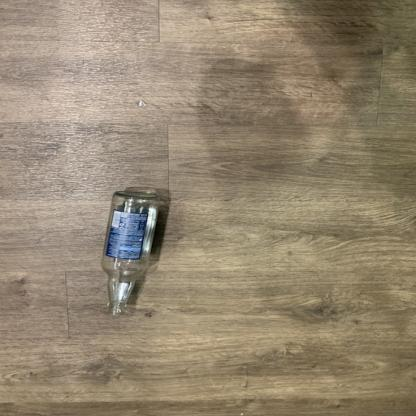trash: (101, 190, 161, 317)
